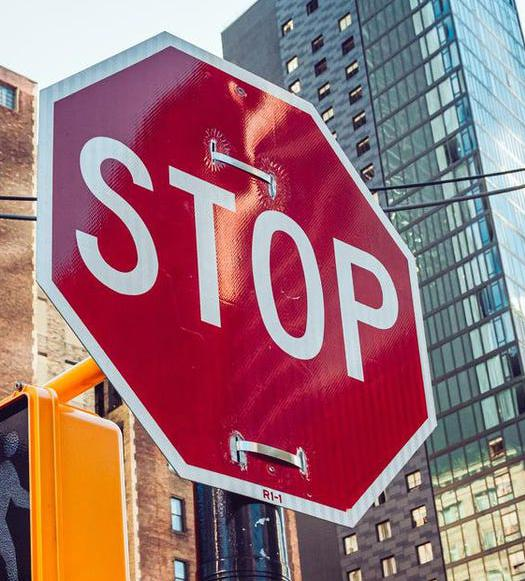Stop sign: (0, 1, 524, 580)
